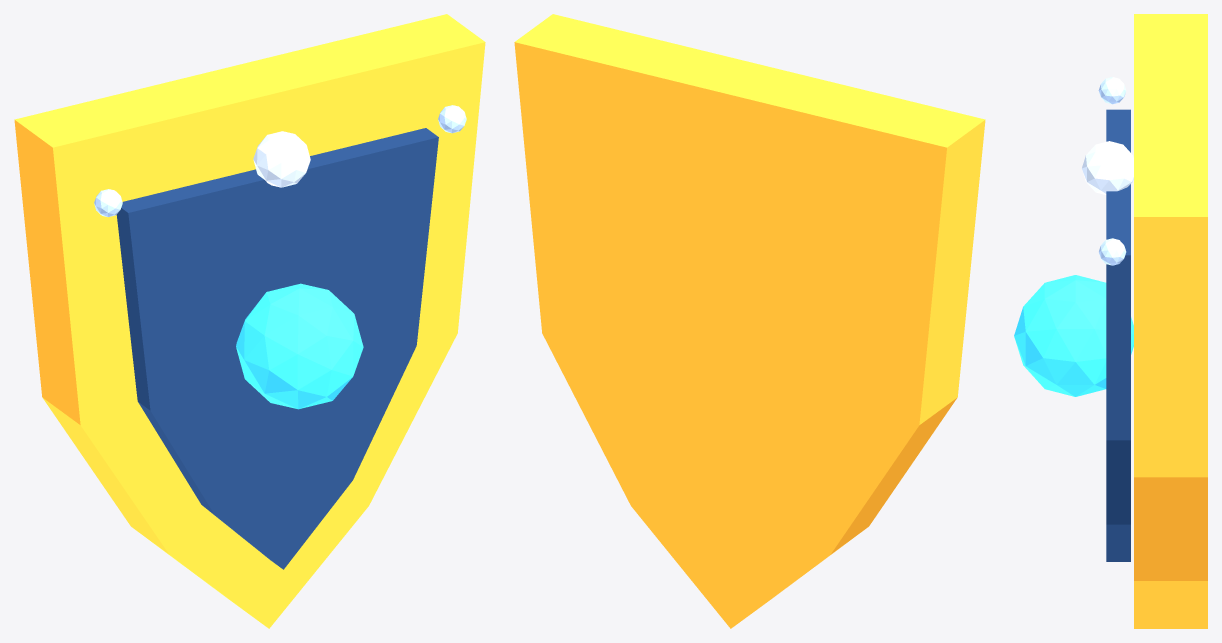
File: minglora_shield.gltf
3 views of the same model, side by side, from view 1: azimuth 30°, elevation 25°; view 2: azimuth 150°, elevation 25°; view 3: azimuth 270°, elevation 25° (orthographic). The views are drawn at different scales.
Visible parts, largest first — view 1: shield_shell, shield_inset, shield_gem, shield_top_crown; view 2: shield_shell; view 3: shield_shell, shield_inset, shield_gem, shield_top_crown, shield_right_rivet, shield_left_rivet.
Boxes of the visible parts, x1=… form: shield_shell: x1=14, y1=14, x2=485, y2=628; shield_inset: x1=116, y1=128, x2=438, y2=569; shield_gem: x1=236, y1=283, x2=363, y2=409; shield_top_crown: x1=253, y1=131, x2=310, y2=187; shield_shell: x1=514, y1=14, x2=985, y2=628; shield_shell: x1=1134, y1=14, x2=1207, y2=628; shield_inset: x1=1106, y1=109, x2=1130, y2=561; shield_gem: x1=1014, y1=275, x2=1133, y2=396; shield_top_crown: x1=1082, y1=141, x2=1133, y2=194; shield_right_rivet: x1=1099, y1=238, x2=1126, y2=265; shield_left_rivet: x1=1098, y1=77, x2=1126, y2=104.
Bounding box in the file's own units: 1.56 × 1.84 × 0.63.
